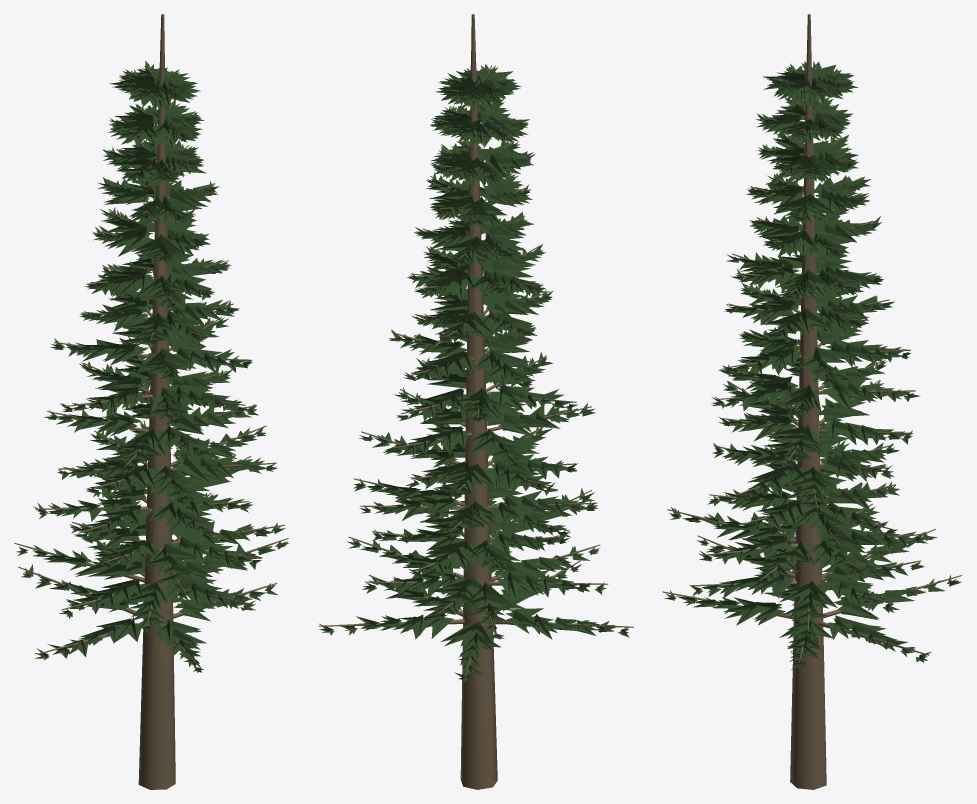
File: cedar0.glb
3 renders of one model, left to right at view 1: azimuth 30°, elevation 25°; view 2: azimuth 150°, elevation 25°; view 3: azimuth 270°, elevation 25°, orthographic.
Visible parts, largest first — view 1: leaf, bark; view 2: leaf, bark; view 3: leaf, bark.
Boxes of the visible parts, left/top/right/bottom form: leaf: left=16, top=60, right=288, bottom=672; bark: left=14, top=14, right=288, bottom=789; leaf: left=319, top=63, right=629, bottom=682; bark: left=319, top=14, right=633, bottom=789; leaf: left=664, top=61, right=961, bottom=669; bark: left=662, top=14, right=961, bottom=789.
Size of the model in its own units: 7 by 19.05 by 6.73.
